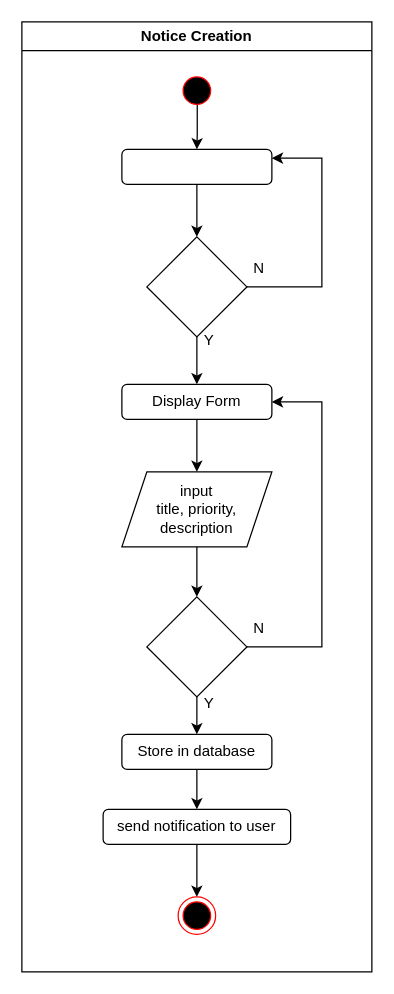
The diagram is 394 pixels wide and 994 high, and some of its shapes have lost their labels. Each missing label, with the centre of its shape:
Authentication: [196,166]
is_staff?: [196,286]
is_valid: [196,646]
